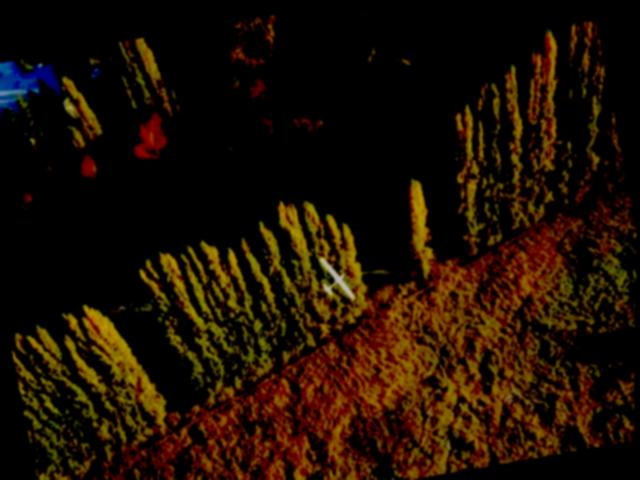uav: (308, 240, 369, 309)
